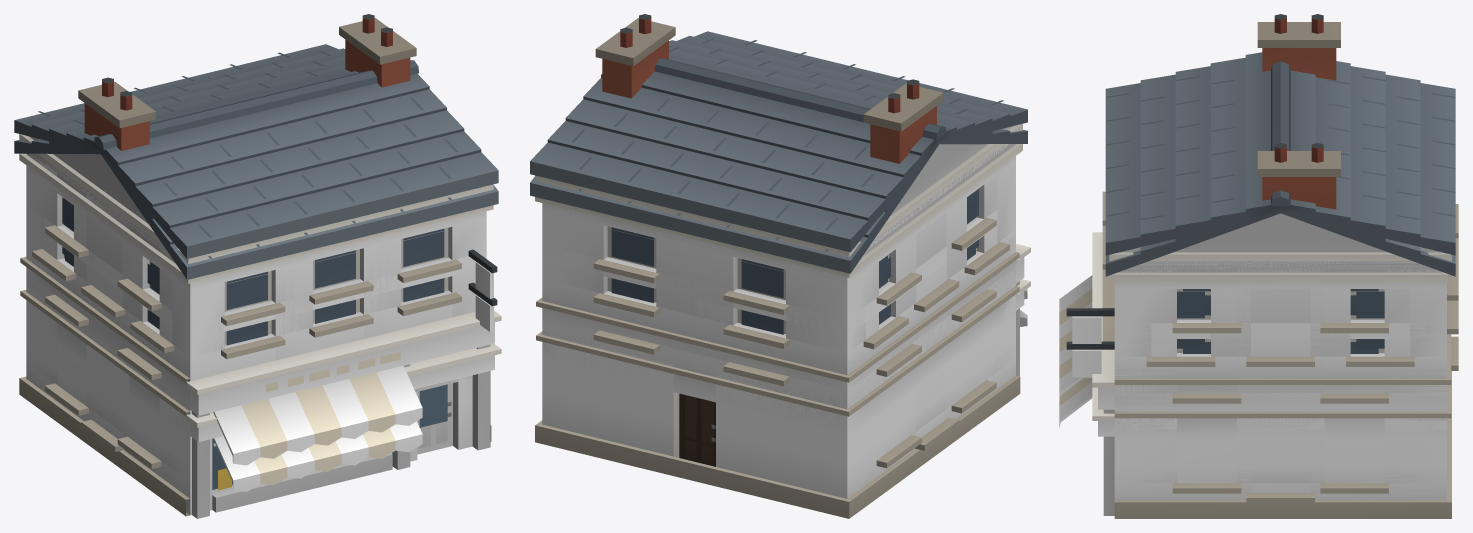
Rendered from shopfront.glb.
The picture shows the model from 3 angles, left to right: view 1: azimuth 30°, elevation 25°; view 2: azimuth 150°, elevation 25°; view 3: azimuth 270°, elevation 25°; orthographic projection. The views are drawn at different scales.
Parts seen in each view (by area): view 1: ShopfrontTall, Shopfront; view 2: ShopfrontTall, Shopfront; view 3: ShopfrontTall, Shopfront.
Part boxes in pixels (box(x1,y1,x2,y2)): ShopfrontTall: box(14, 41, 501, 518); Shopfront: box(14, 14, 501, 518); ShopfrontTall: box(530, 31, 1030, 497); Shopfront: box(530, 14, 1030, 518); ShopfrontTall: box(1059, 48, 1458, 515); Shopfront: box(1059, 14, 1458, 518).
Bounding box in the file's own units: 1 × 1.08 × 1.08.
